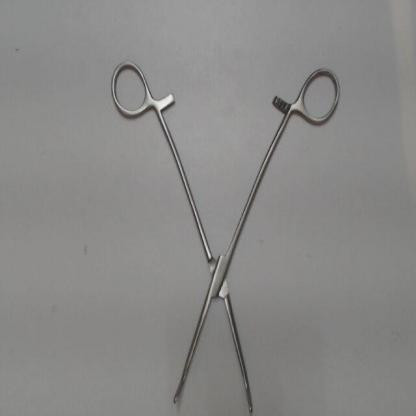Lahey Forceps: (102, 53, 346, 416)
